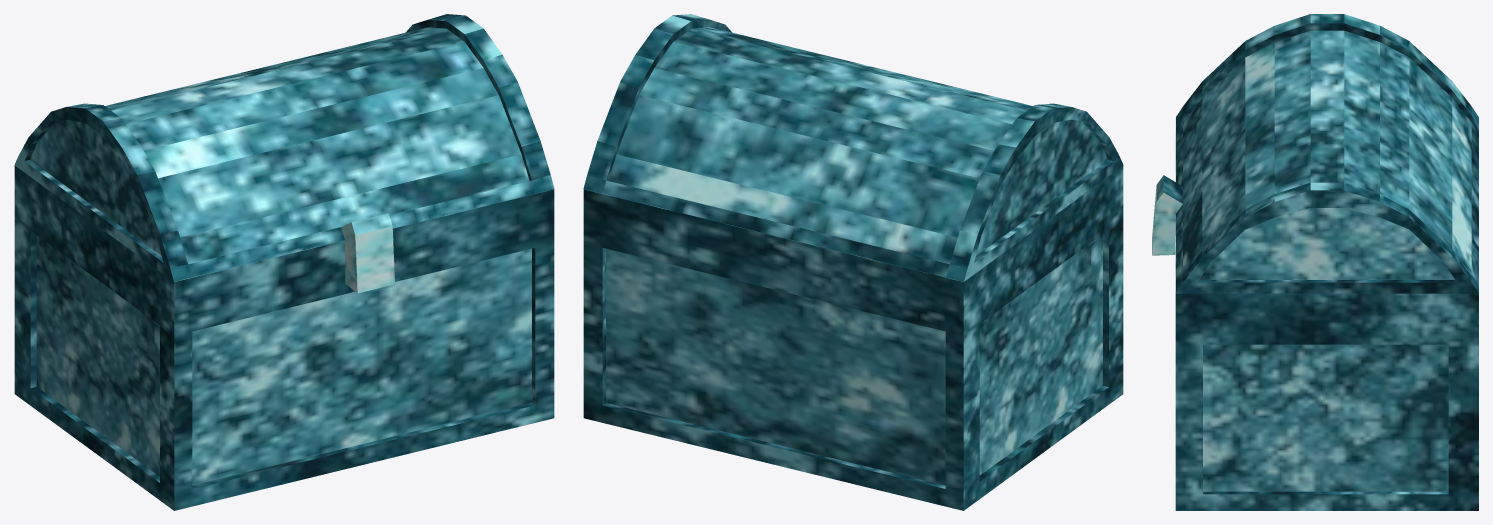
Rendered from Tier4Chest.glb.
The picture shows the model from 3 angles, left to right: view 1: azimuth 30°, elevation 25°; view 2: azimuth 150°, elevation 25°; view 3: azimuth 270°, elevation 25°; orthographic projection. The views are drawn at different scales.
Parts seen in each view (by area): view 1: Tier4Chest; view 2: Tier4Chest; view 3: Tier4Chest.
Boxes of the visible parts, left/top/right/bottom form: Tier4Chest: left=14, top=14, right=554, bottom=510; Tier4Chest: left=583, top=14, right=1123, bottom=510; Tier4Chest: left=1152, top=14, right=1478, bottom=510.
Size of the model in its own units: 0.686 by 0.5817 by 0.5375.
Materials: 3 (3 with a texture image).
